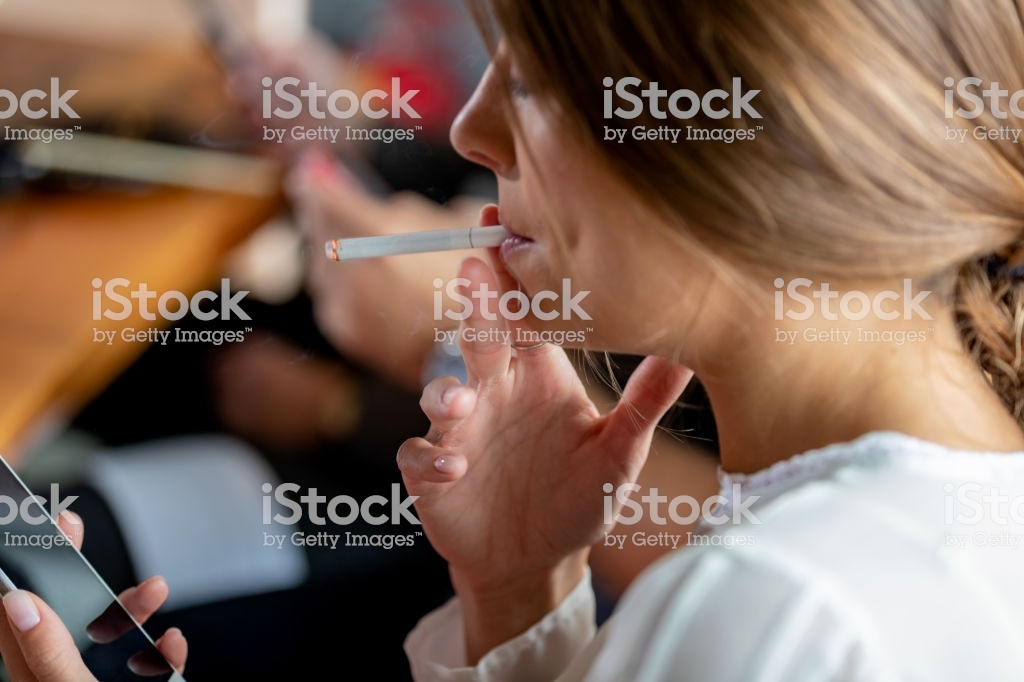sigaretta: (323, 208, 516, 266)
